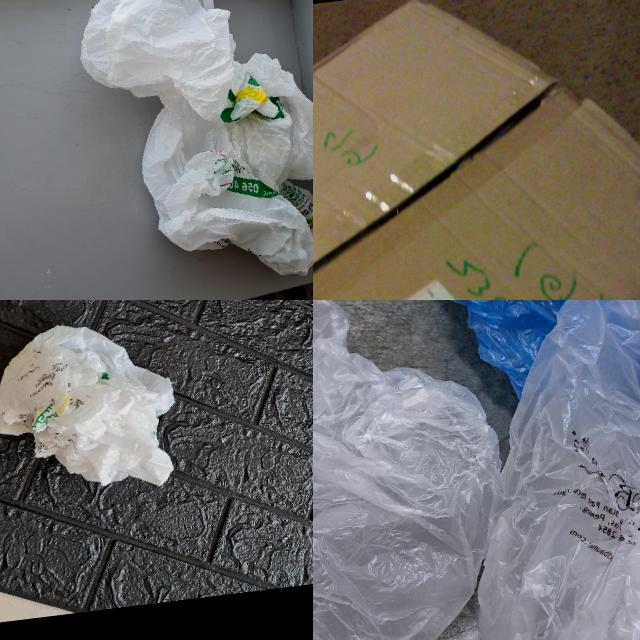papelão: (313, 0, 640, 300)
sacola plástica: (407, 300, 640, 640), (61, 0, 313, 300), (313, 300, 532, 640), (338, 300, 640, 424), (0, 311, 185, 504)
